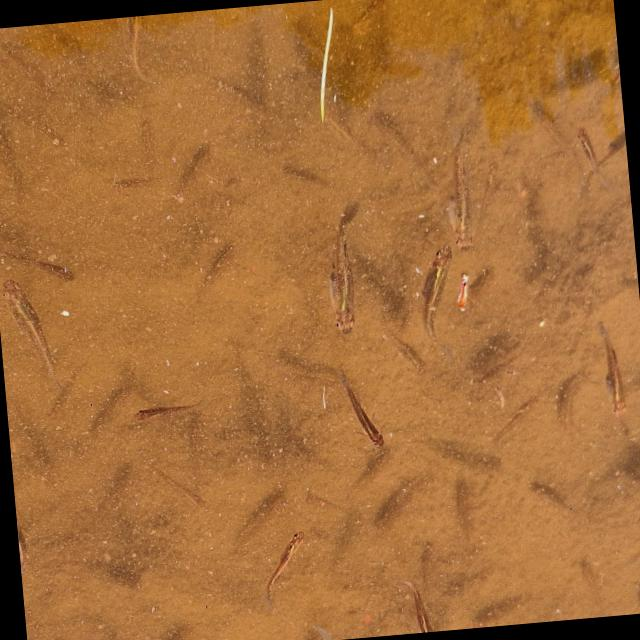Sivrisinek Baligi: (320, 188, 376, 341), (0, 262, 56, 371), (412, 244, 459, 354), (335, 368, 390, 452), (254, 528, 314, 602), (593, 320, 635, 418), (132, 390, 202, 426), (572, 122, 607, 184), (404, 579, 439, 634), (451, 269, 479, 311), (312, 375, 336, 417)
